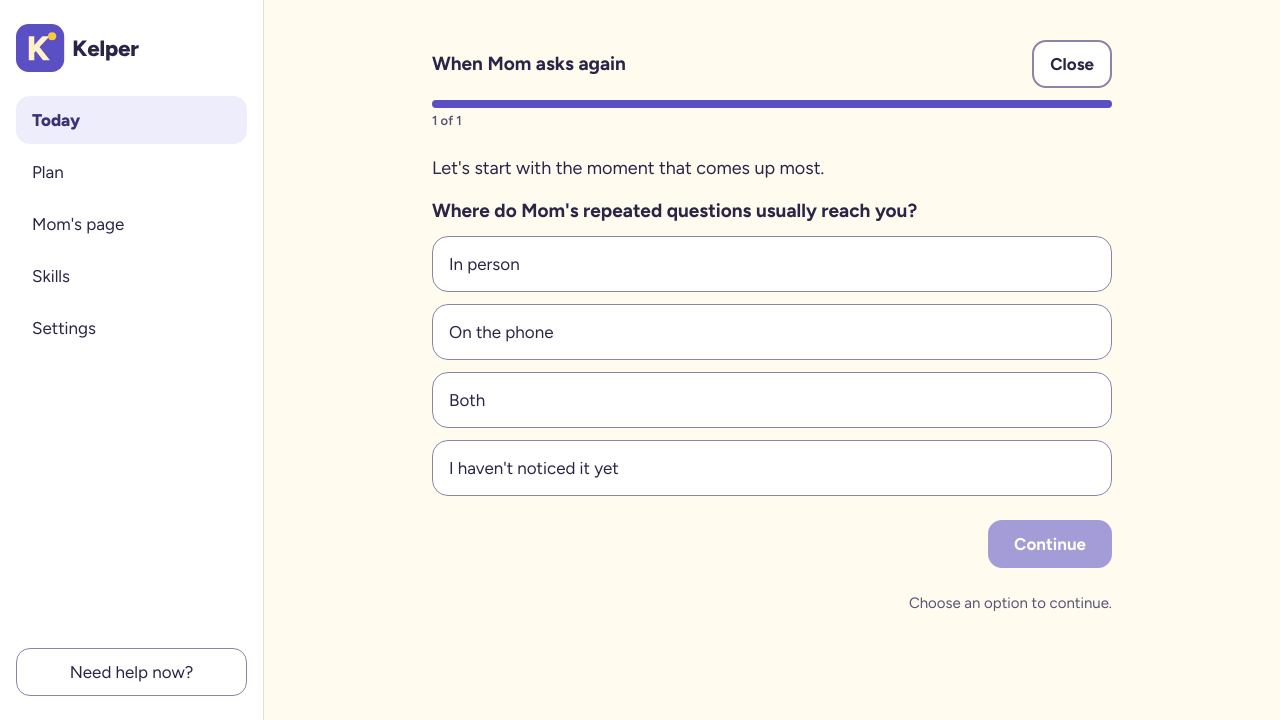
Test: lesson player › the phone variant changes the scenario text, never the screen count
Expected: the heading "When Mom asks again" is shown, x1=432 y1=51 x2=626 y2=77
Click the radio button labelled "On the phone". click: x=501, y=332
box: x1=432 y1=304 x2=1112 y2=360
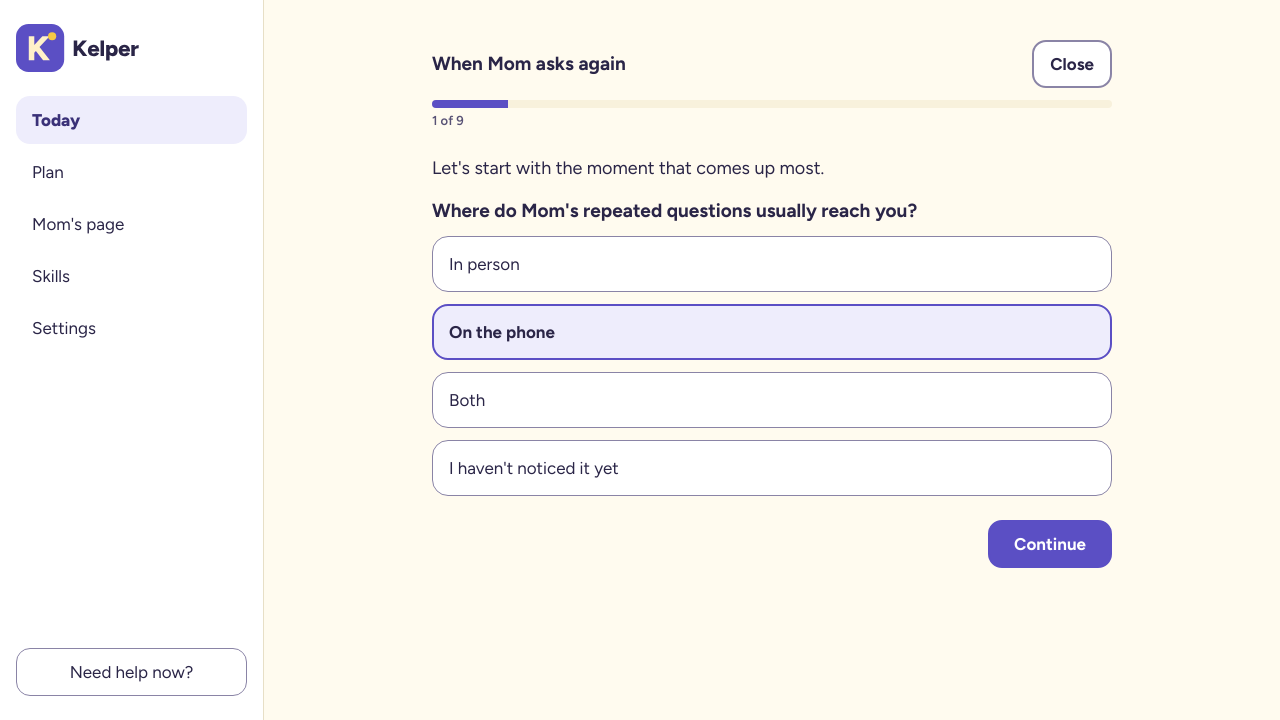
Expected: the progress indicator named "Lesson progress" has attribute aria-valuemax="9", x1=432 y1=100 x2=1112 y2=108
Click the button "Continue". click: x=1050, y=544
box: x1=988 y1=520 x2=1112 y2=568
(page scrolled)
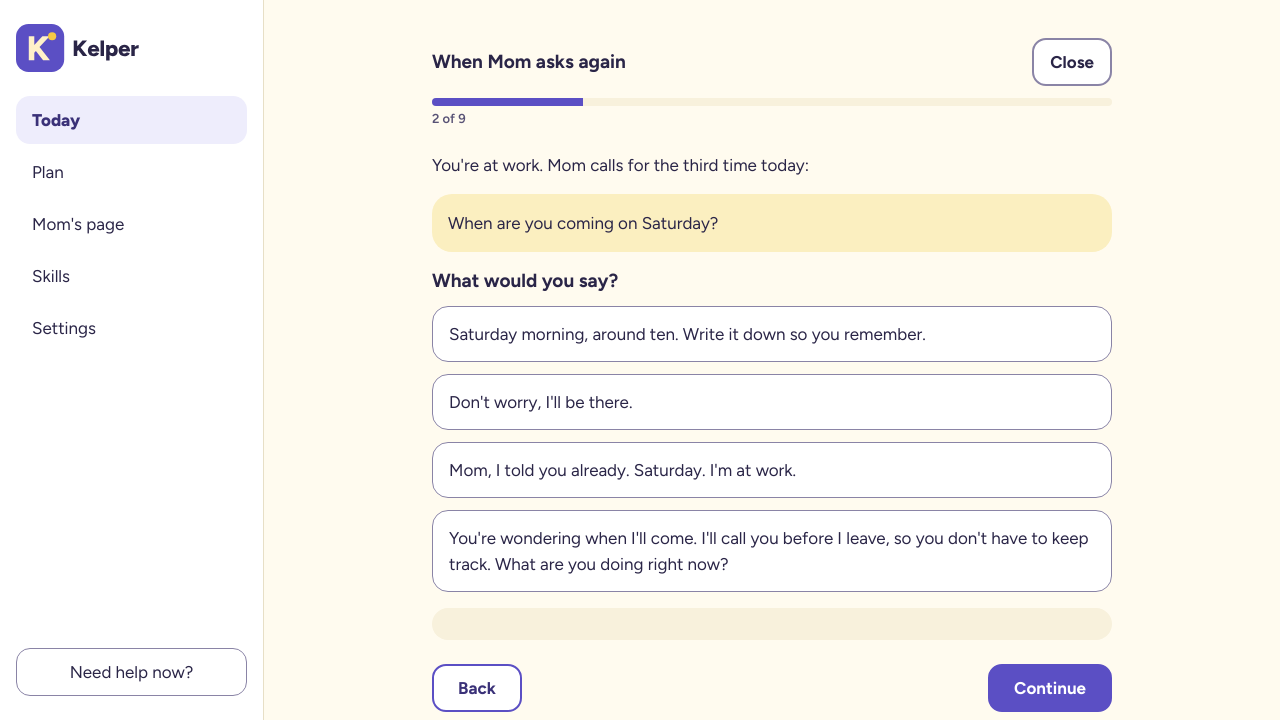
Expected: the text "You're at work. Mom calls for the third time today:" is shown, x1=432 y1=155 x2=809 y2=175
